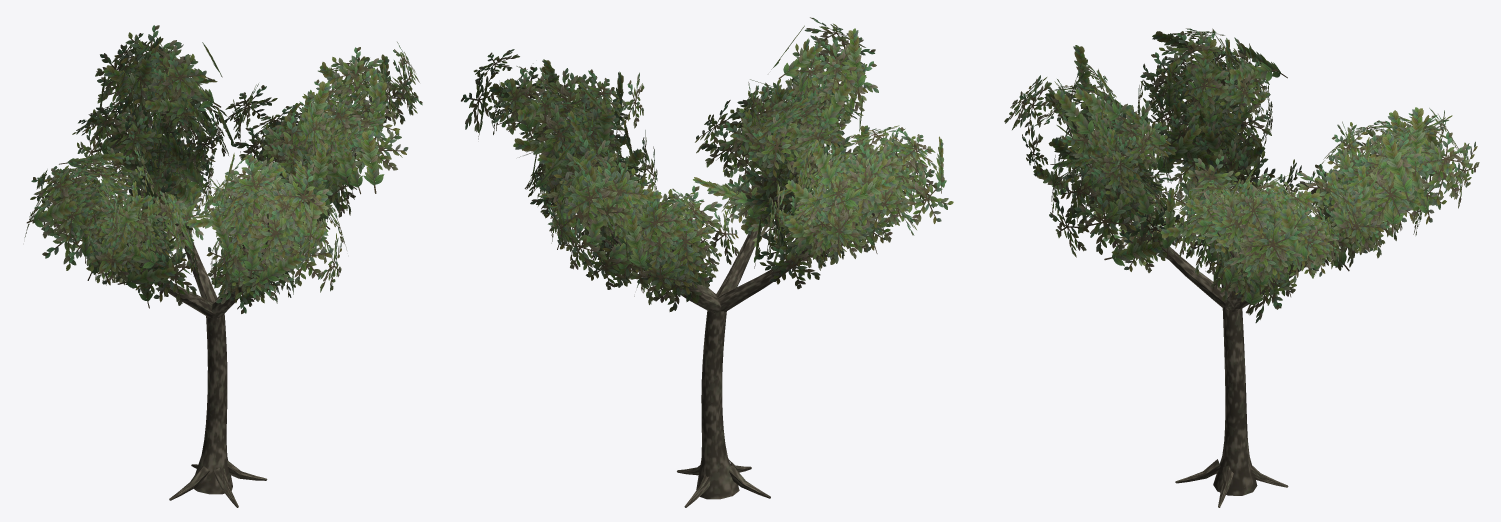
Rendered from canopy-olive.lod0.glb.
3 views of the same model, side by side, from view 1: azimuth 30°, elevation 25°; view 2: azimuth 150°, elevation 25°; view 3: azimuth 270°, elevation 25° (orthographic). The views are drawn at different scales.
Parts seen in each view (by area): view 1: canopy_olive_mesh; view 2: canopy_olive_mesh; view 3: canopy_olive_mesh.
Boxes of the visible parts, bbox=[...] form: canopy_olive_mesh: bbox=[24, 25, 422, 507]; canopy_olive_mesh: bbox=[461, 17, 953, 507]; canopy_olive_mesh: bbox=[1004, 28, 1479, 507].
Bounding box in the file's own units: 6.12 × 5.42 × 5.8.
2 materials, 2 textured.
